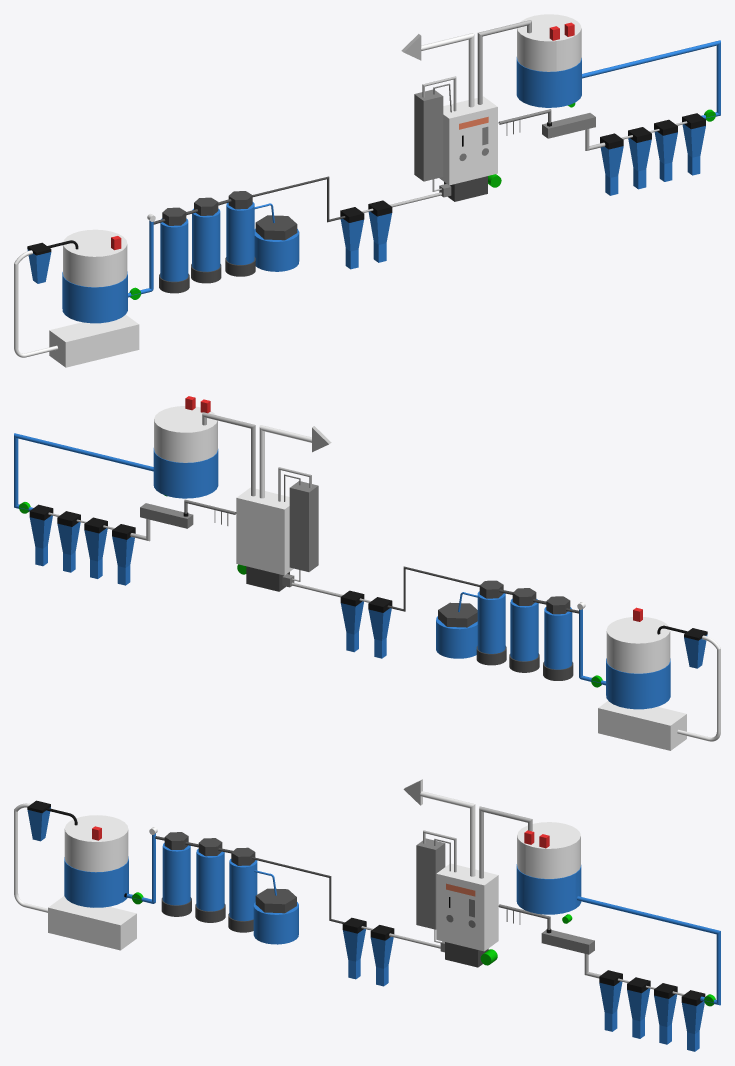
3 renders of one model, top to bottom at view 1: azimuth 30°, elevation 25°; view 2: azimuth 150°, elevation 25°; view 3: azimuth 330°, elevation 25°, orthographic.
Visible parts, largest first — view 1: Asset3DLoader.sceneRoot; view 2: Asset3DLoader.sceneRoot; view 3: Asset3DLoader.sceneRoot.
Part boxes in pixels (box(x1,y1,x2,y2)): Asset3DLoader.sceneRoot: box(14, 14, 720, 367); Asset3DLoader.sceneRoot: box(14, 396, 720, 750); Asset3DLoader.sceneRoot: box(14, 779, 720, 1051).
Bounding box in the file's own units: 1539 × 487 × 129.
